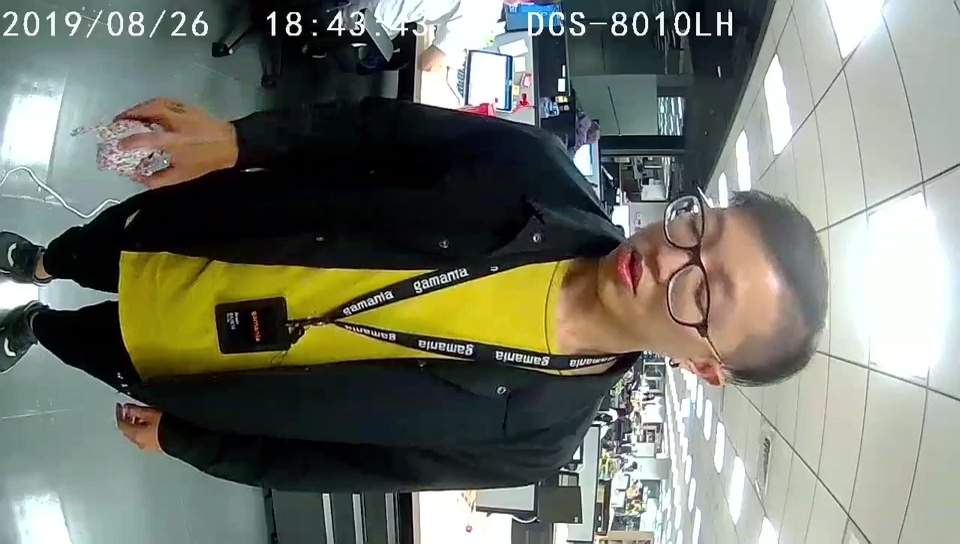pig: (96, 121, 163, 177)
